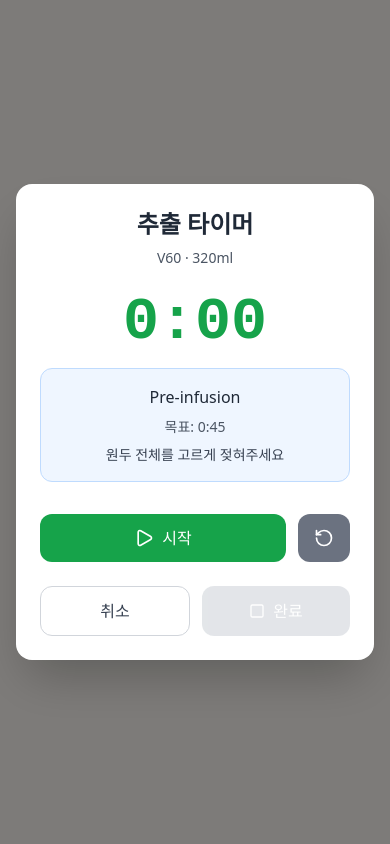
Scenario: BrewTimer › Timer Functionality › starts timer when start button is clicked
Click the button "시작" at (163, 538), box [40,514,286,562]
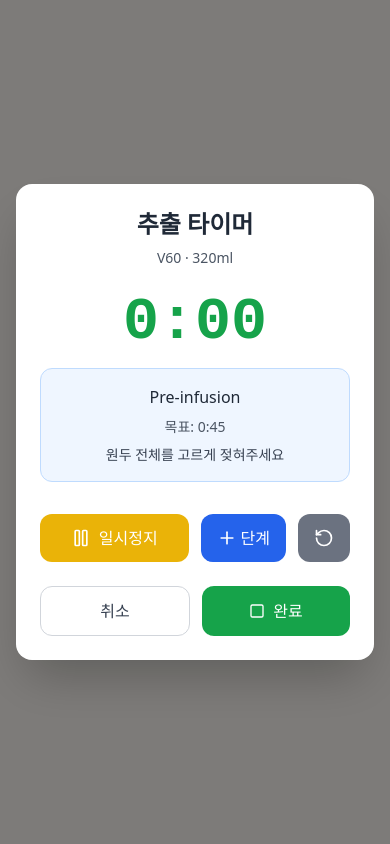
Expected: the button "일시정지" is shown, [40,514,188,562]
